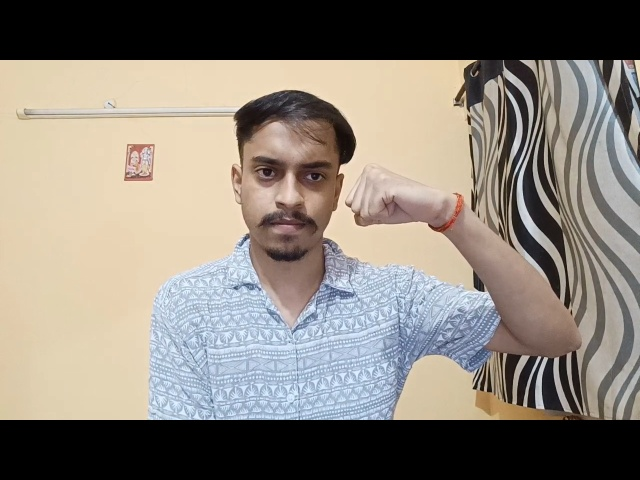Yes: (349, 154, 478, 253)
